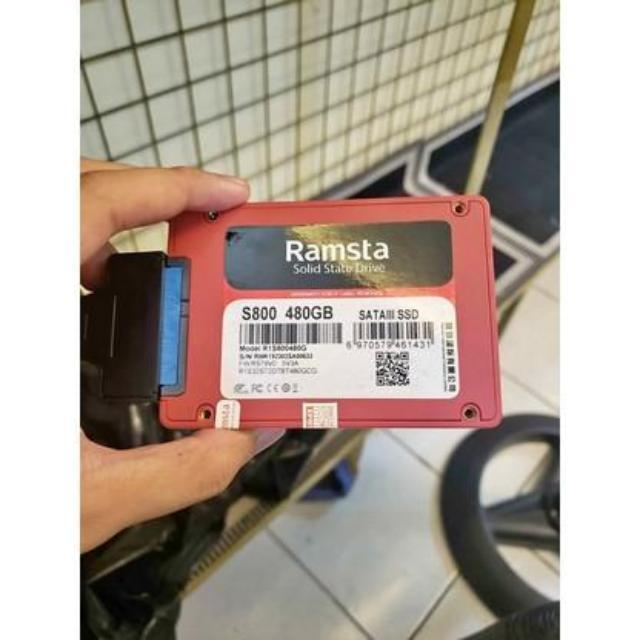DISK: (157, 196, 506, 433)
